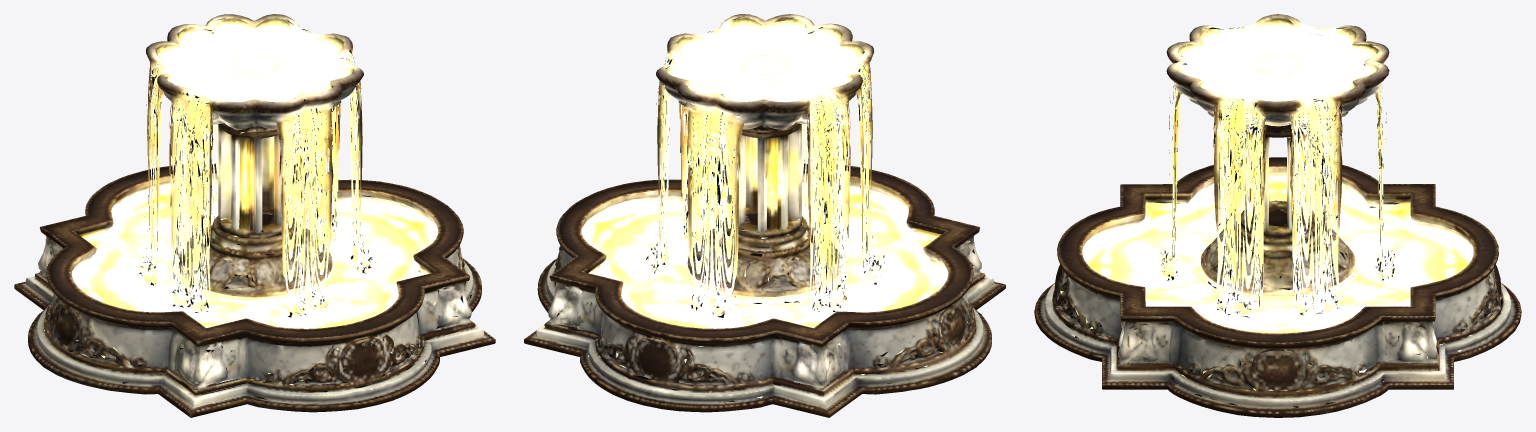
File: Golden_Fountain_of_Li.fbx
3 views of the same model, side by side, from view 1: azimuth 30°, elevation 25°; view 2: azimuth 150°, elevation 25°; view 3: azimuth 270°, elevation 25° (orthographic).
Visible parts, largest first — view 1: Golden_Fountain_of_Li_LOD0; view 2: Golden_Fountain_of_Li_LOD0; view 3: Golden_Fountain_of_Li_LOD0.
Boxes of the visible parts, x1,y1,x2,y2 form: Golden_Fountain_of_Li_LOD0: [14, 14, 495, 417]; Golden_Fountain_of_Li_LOD0: [524, 14, 1005, 417]; Golden_Fountain_of_Li_LOD0: [1034, 14, 1521, 417].
Size of what is drawn, in the model's own units: 1.9 by 1.11 by 1.9.
1 material, 1 textured.
